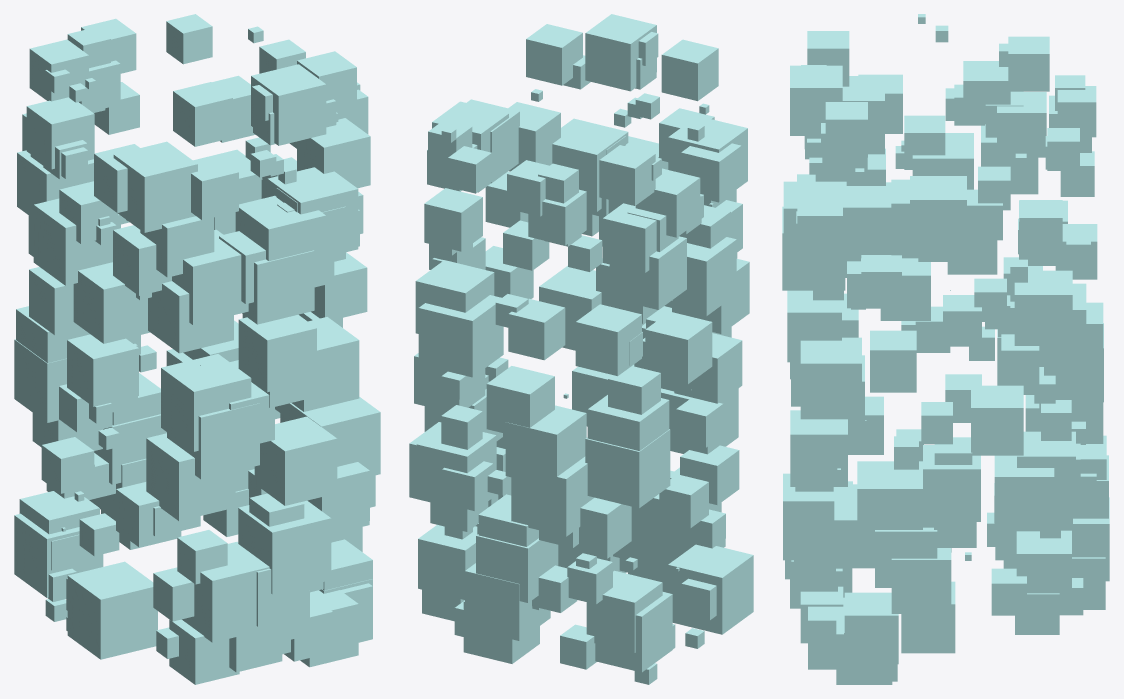
The model's file is bigpassagestars.dae.
The picture shows the model from 3 angles, left to right: view 1: azimuth 30°, elevation 25°; view 2: azimuth 150°, elevation 25°; view 3: azimuth 270°, elevation 25°; orthographic projection. The views are drawn at different scales.
Parts seen in each view (by area): view 1: Cube.152, Cube.050, Cube.038, Cube.118, Cube.142, Cube.096, Cube.062, Cube.121, Cube.156, Cube.170, Cube.059, Cube.119 (+69 smaller); view 2: Cube.086, Cube.152, Cube.032, Cube.095, Cube.094, Cube.206, Cube.023, Cube.039, Cube.027, Cube.044, Cube.106, Cube.177 (+67 smaller); view 3: Cube.019, Cube.185, Cube.089, Cube.160, Cube.100, Cube.014, Cube.038, Cube.050, Cube.199, Cube.127, Cube.147, Cube.163 (+75 smaller).
Part boxes in pixels (x1=…): Cube.152: x1=67, y1=561, x2=157, y2=659; Cube.050: x1=238, y1=500, x2=331, y2=594; Cube.038: x1=254, y1=416, x2=337, y2=505; Cube.118: x1=161, y1=354, x2=251, y2=451; Cube.142: x1=113, y1=141, x2=197, y2=232; Cube.096: x1=182, y1=541, x2=271, y2=642; Cube.062: x1=238, y1=314, x2=316, y2=392; Cube.121: x1=146, y1=433, x2=235, y2=521; Cube.156: x1=73, y1=262, x2=150, y2=343; Cube.170: x1=67, y1=334, x2=138, y2=406; Cube.059: x1=235, y1=195, x2=325, y2=277; Cube.119: x1=167, y1=403, x2=259, y2=479; Cube.086: x1=418, y1=295, x2=503, y2=377; Cube.152: x1=668, y1=544, x2=753, y2=634; Cube.032: x1=585, y1=429, x2=670, y2=508; Cube.095: x1=505, y1=405, x2=586, y2=488; Cube.094: x1=511, y1=456, x2=594, y2=536; Cube.206: x1=645, y1=311, x2=712, y2=384; Cube.023: x1=465, y1=563, x2=550, y2=640; Cube.039: x1=585, y1=14, x2=656, y2=91; Cube.027: x1=586, y1=570, x2=662, y2=652; Cube.044: x1=575, y1=304, x2=641, y2=376; Cube.106: x1=486, y1=366, x2=554, y2=433; Cube.177: x1=665, y1=237, x2=736, y2=316; Cube.019: x1=800, y1=337, x2=861, y2=419; Cube.185: x1=857, y1=461, x2=922, y2=547; Cube.089: x1=1014, y1=270, x2=1072, y2=347; Cube.160: x1=910, y1=176, x2=966, y2=251; Cube.100: x1=994, y1=455, x2=1054, y2=531; Cube.014: x1=797, y1=189, x2=860, y2=273; Cube.038: x1=790, y1=410, x2=847, y2=486; Cube.050: x1=783, y1=473, x2=847, y2=560; Cube.199: x1=844, y1=592, x2=898, y2=664; Cube.127: x1=971, y1=385, x2=1023, y2=455; Cube.147: x1=923, y1=445, x2=980, y2=521; Cube.163: x1=891, y1=548, x2=951, y2=613.
Bounding box in the file's own units: 51.15 × 51.67 × 98.2.
